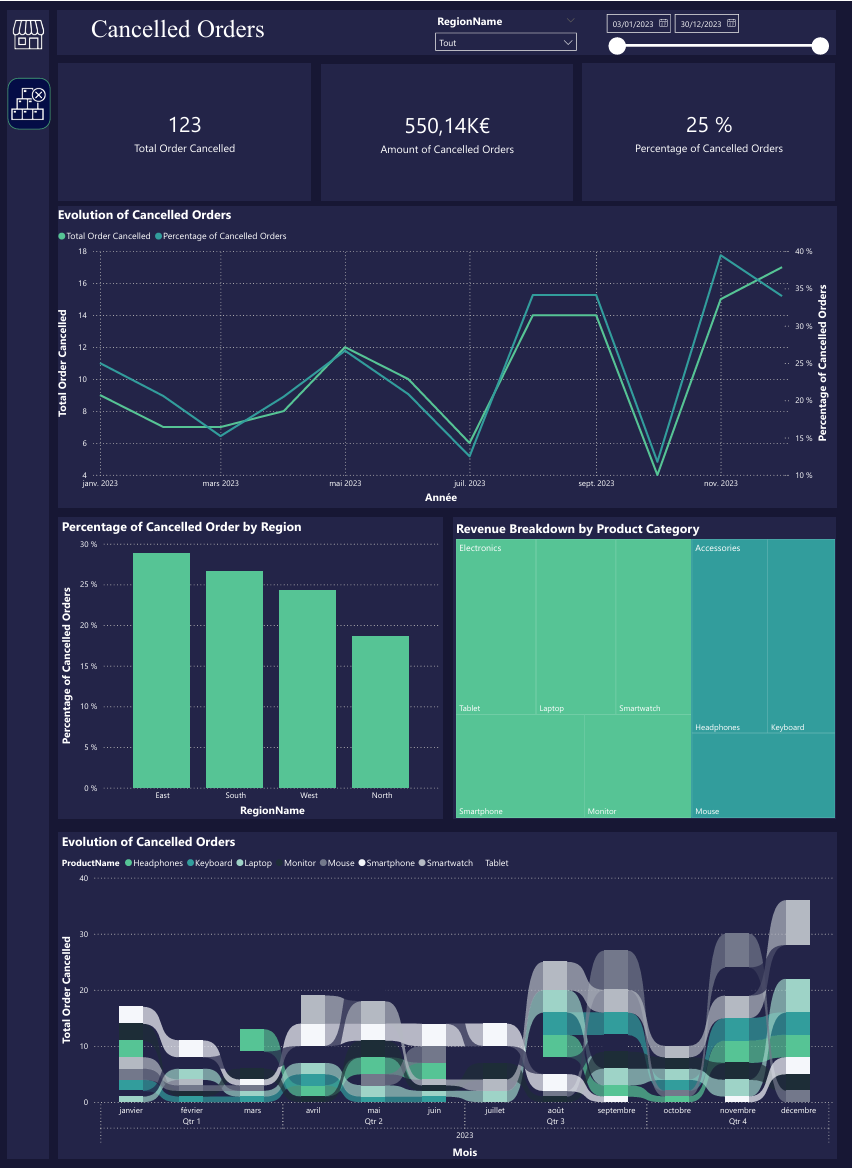

What the dashboard file says about the page in this screenshot:
{"tool":"powerbi","page":{"name":"Sales cancelled","canvas":[1280,2000],"ordinal":1},"visuals":[{"type":"shape","box":[12.5,12.5,62.7,1723.4],"z":0},{"type":"shape","box":[87.7,12.5,1167.2,67.4],"z":1000},{"type":"shape","box":[89.3,92.4,379.1,205.2],"z":2000},{"type":"shape","box":[89.1,773.6,576.9,451.9],"z":3000},{"type":"shape","box":[680.5,773.6,574.2,451.9],"z":4000},{"type":"shape","box":[89.3,1245.5,1167.2,490.4],"z":5000},{"type":"textbox","box":[89.3,12.5,357.2,65.8],"z":6000},{"type":"shape","box":[89.3,307.1,1167.2,452.8],"z":7000},{"type":"lineChart","title":"Evolution of Cancelled Orders","fields":{"Category":["Sales.OrderDate.Variation.Hiérarchie de dates.Année","Sales.OrderDate.Variation.Hiérarchie de dates.Trimestre","Sales.OrderDate.Variation.Hiérarchie de dates.Mois"],"Y":["Measure.Total Order Cancelled"],"Y2":["Measure.Percentage of Cancelled Order"]},"box":[83.5,306.1,1168.7,452.2],"z":8000},{"type":"clusteredColumnChart","title":"Percentage of Cancelled Order by Region","fields":{"Category":["Region.RegionName"],"Y":["Measure.Percentage of Cancelled Order"]},"box":[89.3,774,578.1,452.8],"z":9000},{"type":"treemap","title":"Revenue Breakdown by Product Category","fields":{"Group":["Products.Category"],"Values":["Measure.Total Sales"],"Details":["Products.ProductName"]},"box":[680,775.5,578.1,452.8],"z":10000},{"type":"slicer","fields":{"Values":["Region.RegionName"]},"box":[643.9,12.5,231.9,65.8],"z":11000},{"type":"slicer","fields":{"Values":["Sales.OrderDate"]},"box":[897.7,7.8,354.1,76.8],"z":12000},{"type":"shape","box":[482.5,94,377.6,205.2],"z":13000},{"type":"shape","box":[874.2,92.4,379.1,205.2],"z":14000},{"type":"card","fields":{"Values":["Measure.Total Orders Cancelled"]},"box":[89.3,94,379.1,200.5],"z":15000},{"type":"card","fields":{"Values":["Measure.Amount of Cancelled Orders"]},"box":[481,95.6,382.3,200.5],"z":16000},{"type":"card","fields":{"Values":["Measure.Percentage of Cancelled Order"]},"box":[872.7,94,383.8,200.5],"z":17000},{"type":"ribbonChart","title":"Evolution of Cancelled Orders","fields":{"Y":["Measure.Total Order Cancelled"],"Series":["Products.ProductName"],"Category":["Sales.OrderDate.Variation.Hiérarchie de dates.Année","Sales.OrderDate.Variation.Hiérarchie de dates.Trimestre","Sales.OrderDate.Variation.Hiérarchie de dates.Mois"]},"box":[89.3,1245.5,1168.8,495.1],"z":18000},{"type":"image","box":[12.5,7.8,62.7,81.5],"z":19000},{"type":"shape","box":[12.5,114.4,64.2,76.8],"z":20000},{"type":"image","box":[12.5,108.1,62.7,89.3],"z":21000}]}

Visuals, with their boxes on the page's 1280x2000 design canvas (x1, y1, x2, y2). These are canvas units, not pixel positions in the 852x1168 screenshot, which may show the page scaled, cropped or inside an application window:
shape: {"x1": 12, "y1": 12, "x2": 75, "y2": 1736}
shape: {"x1": 88, "y1": 12, "x2": 1255, "y2": 80}
shape: {"x1": 89, "y1": 92, "x2": 468, "y2": 298}
shape: {"x1": 89, "y1": 774, "x2": 666, "y2": 1226}
shape: {"x1": 680, "y1": 774, "x2": 1255, "y2": 1226}
shape: {"x1": 89, "y1": 1246, "x2": 1256, "y2": 1736}
textbox: {"x1": 89, "y1": 12, "x2": 446, "y2": 78}
shape: {"x1": 89, "y1": 307, "x2": 1256, "y2": 760}
"Evolution of Cancelled Orders" lineChart: {"x1": 84, "y1": 306, "x2": 1252, "y2": 758}
"Percentage of Cancelled Order by Region" clusteredColumnChart: {"x1": 89, "y1": 774, "x2": 667, "y2": 1227}
"Revenue Breakdown by Product Category" treemap: {"x1": 680, "y1": 776, "x2": 1258, "y2": 1228}
slicer - Region.RegionName: {"x1": 644, "y1": 12, "x2": 876, "y2": 78}
slicer - Sales.OrderDate: {"x1": 898, "y1": 8, "x2": 1252, "y2": 85}
shape: {"x1": 482, "y1": 94, "x2": 860, "y2": 299}
shape: {"x1": 874, "y1": 92, "x2": 1253, "y2": 298}
card - Measure.Total Orders Cancelled: {"x1": 89, "y1": 94, "x2": 468, "y2": 294}
card - Measure.Amount of Cancelled Orders: {"x1": 481, "y1": 96, "x2": 863, "y2": 296}
card - Measure.Percentage of Cancelled Order: {"x1": 873, "y1": 94, "x2": 1256, "y2": 294}
"Evolution of Cancelled Orders" ribbonChart: {"x1": 89, "y1": 1246, "x2": 1258, "y2": 1741}
image: {"x1": 12, "y1": 8, "x2": 75, "y2": 89}
shape: {"x1": 12, "y1": 114, "x2": 77, "y2": 191}
image: {"x1": 12, "y1": 108, "x2": 75, "y2": 197}
